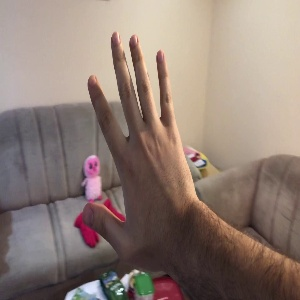hand: (83, 33, 197, 262)
